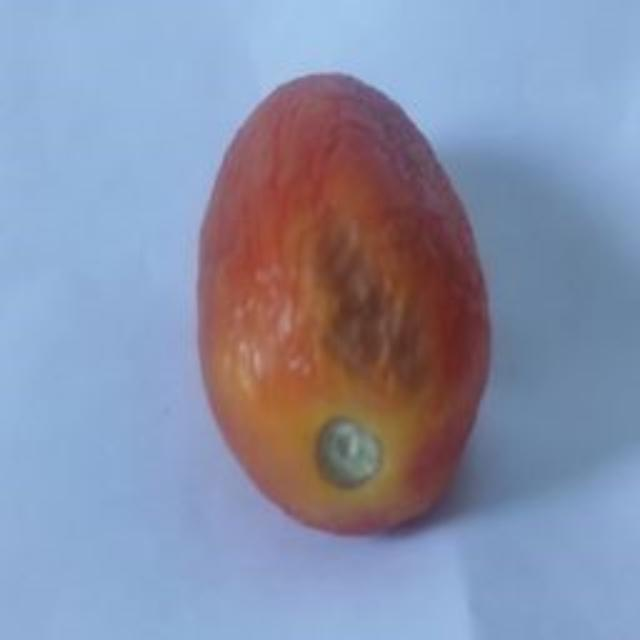defect: (191, 72, 498, 539)
